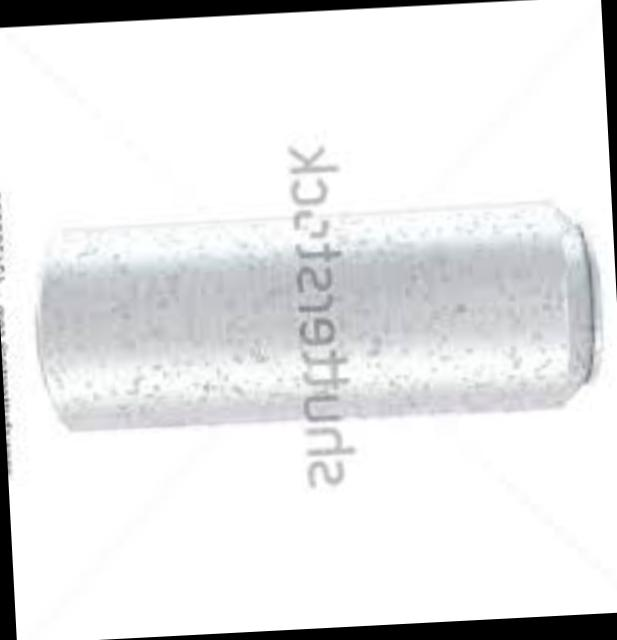metal: (43, 211, 602, 434)
